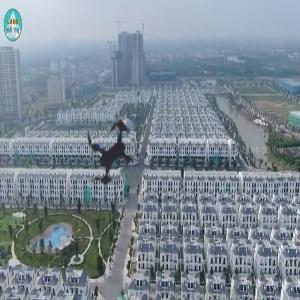drone: (46, 88, 179, 221)
